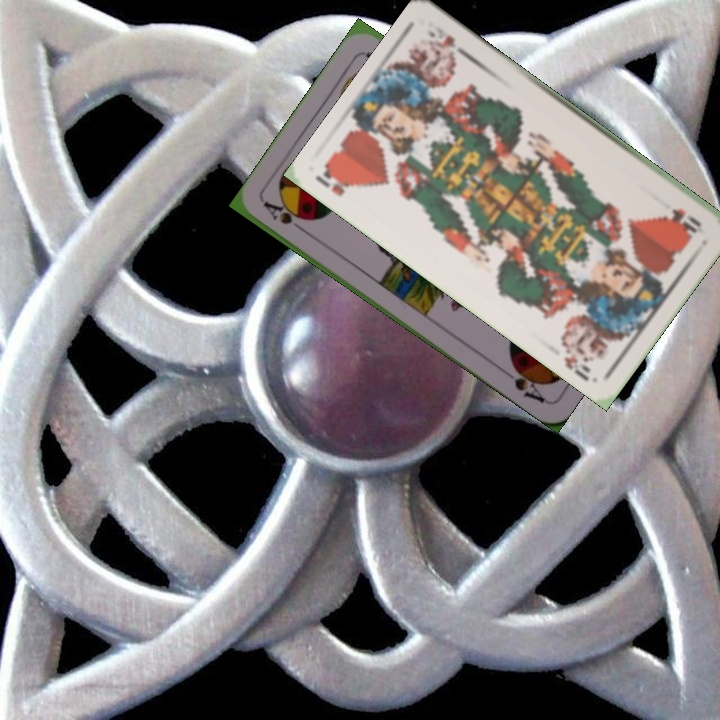HO: (311, 163, 356, 199), (667, 204, 705, 236)
SA: (259, 197, 312, 238)
